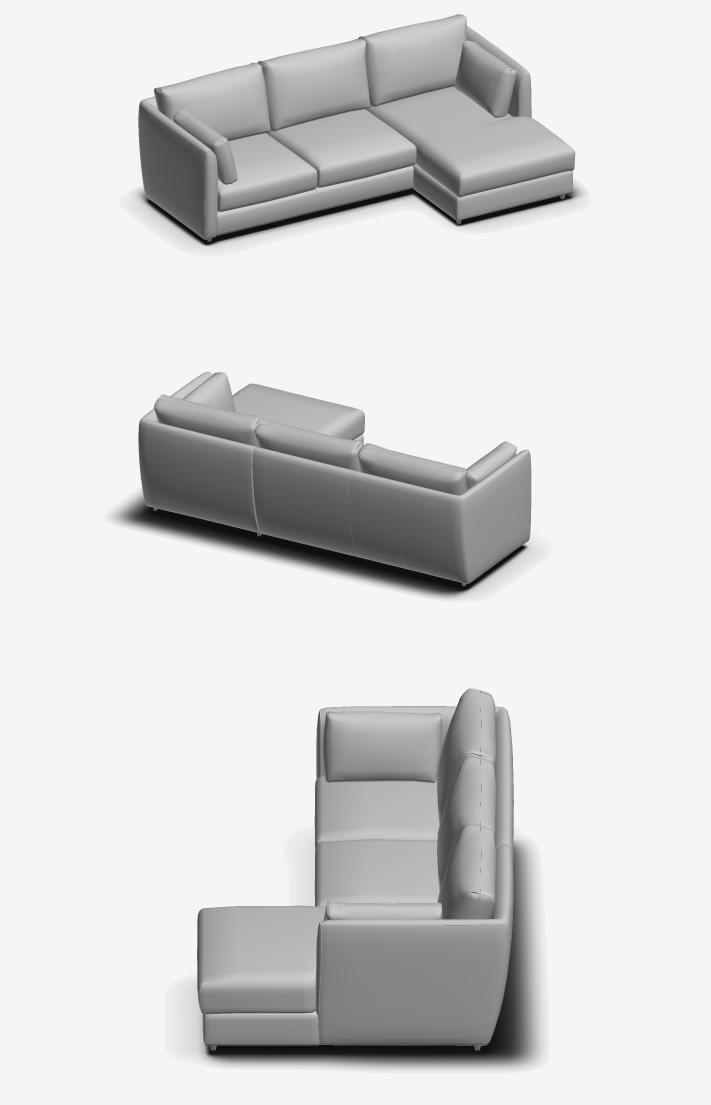
3 renders of one model, top to bottom at view 1: azimuth 30°, elevation 25°; view 2: azimuth 150°, elevation 25°; view 3: azimuth 270°, elevation 25°, orthographic. The views are drawn at different scales.
Parts seen in each view (by area): view 1: Milner_Right_Hand_Facing_Corner_Storage_Sofa_Bed_with_Foam_M, Plane001_FLOOR_0; view 2: Milner_Right_Hand_Facing_Corner_Storage_Sofa_Bed_with_Foam_M, Plane001_FLOOR_0; view 3: Milner_Right_Hand_Facing_Corner_Storage_Sofa_Bed_with_Foam_M, Plane001_FLOOR_0.
Boxes of the visible parts, <box> form: Milner_Right_Hand_Facing_Corner_Storage_Sofa_Bed_with_Foam_M: <box>138,14,575,239</box>; Plane001_FLOOR_0: <box>137,183,581,245</box>; Milner_Right_Hand_Facing_Corner_Storage_Sofa_Bed_with_Foam_M: <box>138,371,531,583</box>; Plane001_FLOOR_0: <box>114,492,528,597</box>; Milner_Right_Hand_Facing_Corner_Storage_Sofa_Bed_with_Foam_M: <box>197,688,513,1045</box>; Plane001_FLOOR_0: <box>198,839,539,1068</box>.
Size of the model in its own units: 334 by 85.67 by 334.
